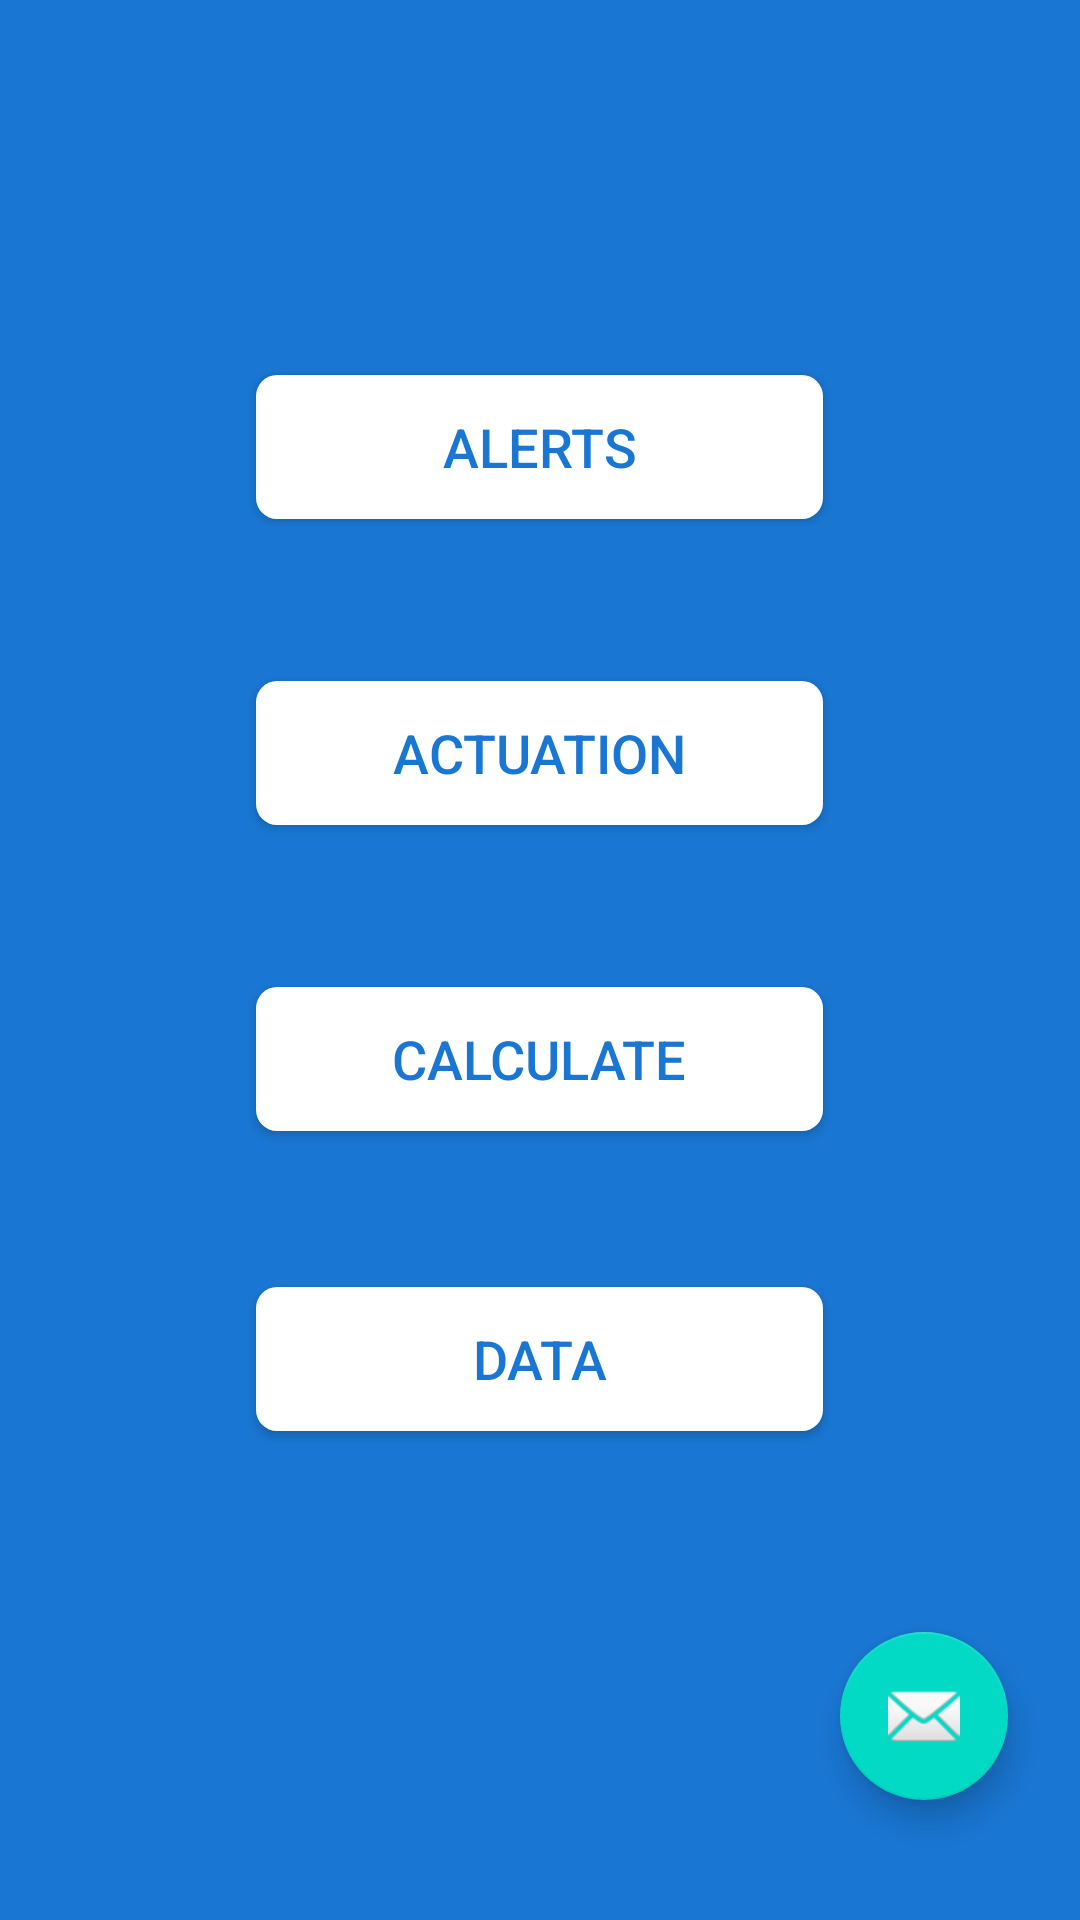

Named icons in this screenshot (1080×1920) and their bounding boxes, (x1, y1, x2, y2):
email: (840, 1632, 1008, 1800)
